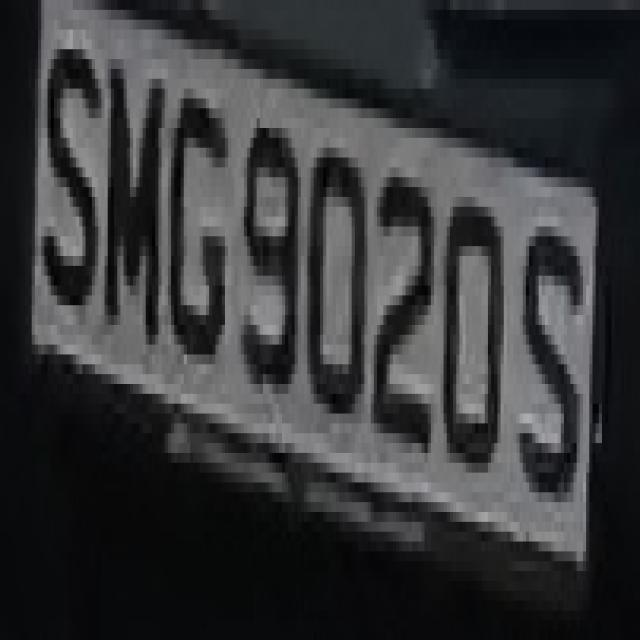0: (304, 98, 371, 453), (444, 168, 504, 502)
2: (364, 138, 440, 472)
9: (238, 108, 304, 453)
G: (168, 59, 231, 423)
M: (98, 10, 174, 364)
S: (516, 177, 590, 532), (32, 0, 101, 325)
